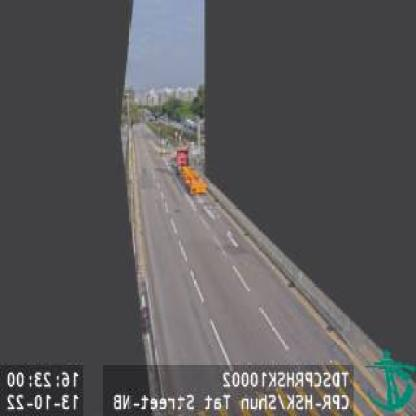Truck: (175, 149, 210, 197)
